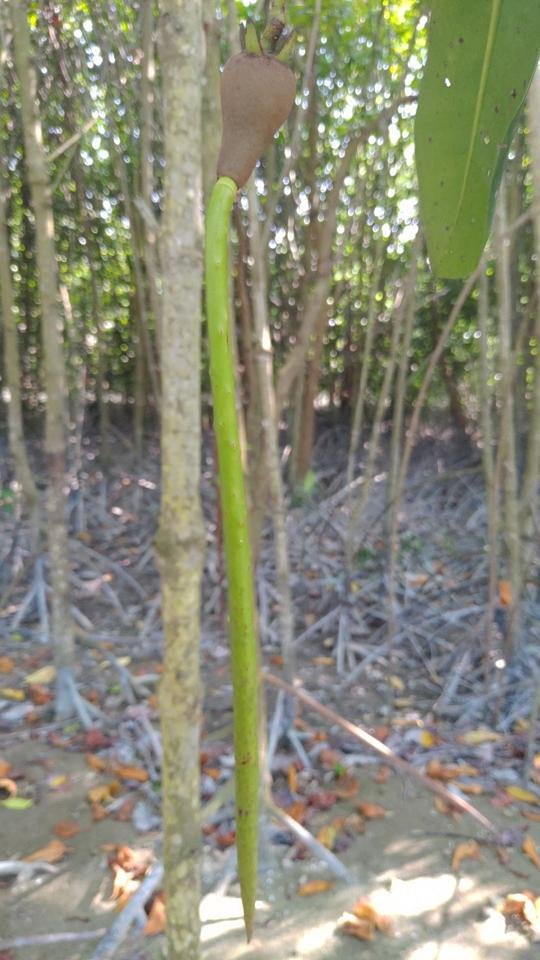setengah matang: (185, 16, 316, 945)
